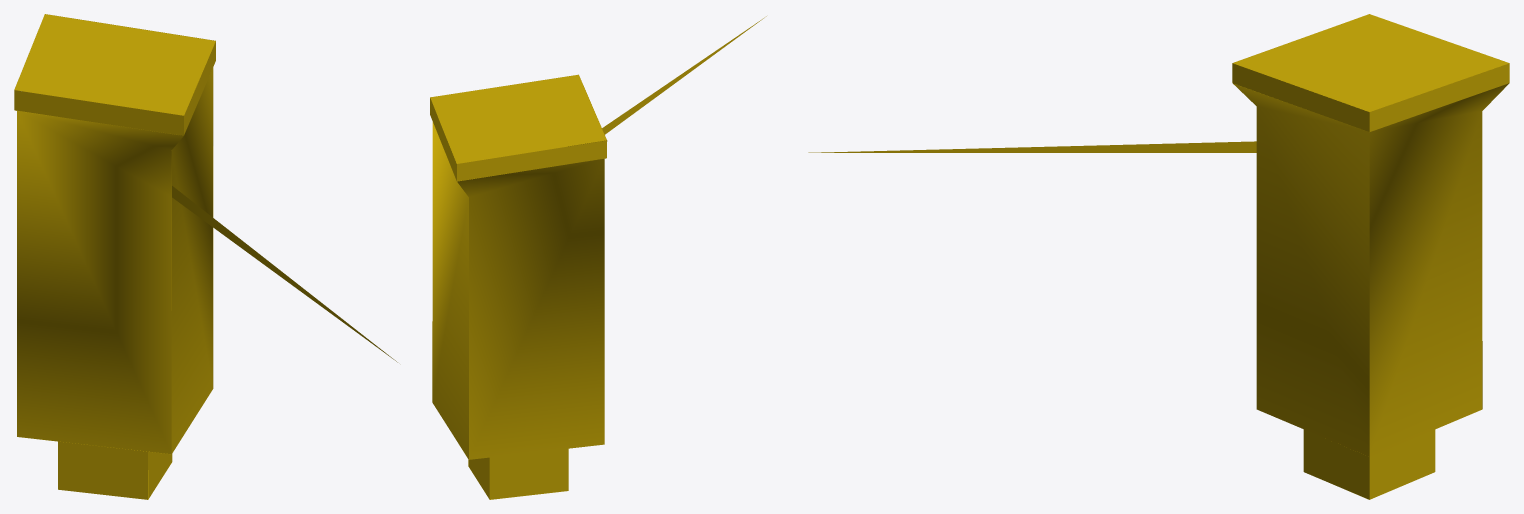
File: original-3.obj
3 renders of one model, left to right at view 1: azimuth 30°, elevation 25°; view 2: azimuth 150°, elevation 25°; view 3: azimuth 270°, elevation 25°, orthographic. The views are drawn at different scales.
Visible parts, largest first — view 1: #ID31; view 2: #ID31; view 3: #ID31.
Part boxes in pixels (x1=…): #ID31: x1=14, y1=14, x2=397, y2=499; #ID31: x1=430, y1=16, x2=766, y2=499; #ID31: x1=808, y1=14, x2=1509, y2=499.
Size of the model in its own units: 0.155 by 0.3012 by 0.4748.
